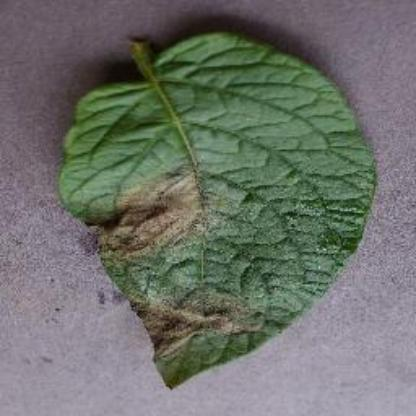Late-Blight: (64, 27, 382, 390)
